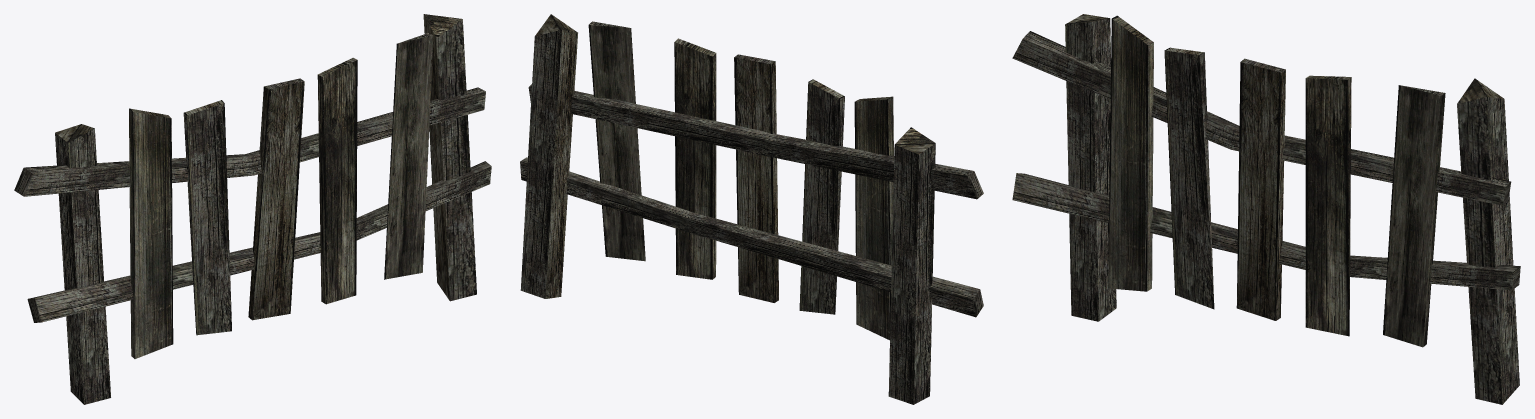
File: plot2.glb
The picture shows the model from 3 angles, left to right: view 1: azimuth 30°, elevation 25°; view 2: azimuth 150°, elevation 25°; view 3: azimuth 330°, elevation 25°; orthographic projection. The views are drawn at different scales.
Visible parts, largest first — view 1: zengin; view 2: zengin; view 3: zengin.
Boxes of the visible parts, left/top/right/bottom form: zengin: left=14, top=14, right=491, bottom=404; zengin: left=520, top=14, right=983, bottom=404; zengin: left=1012, top=14, right=1520, bottom=404.
Bounding box in the file's own units: 2.87 × 1.73 × 0.3696.
Materials: 1 (1 with a texture image).
